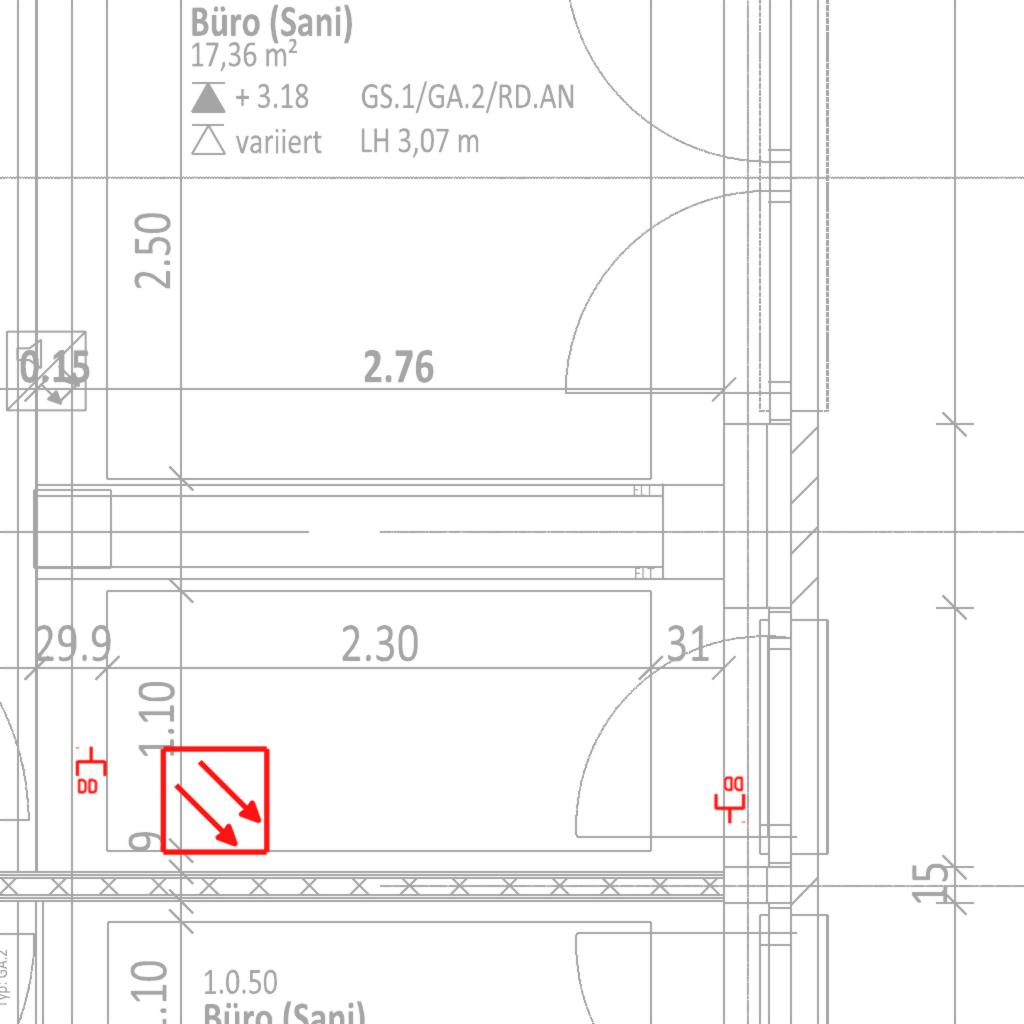Datenanschluss_zweifach: (712, 774, 746, 825), (75, 745, 109, 796)
RMO_Rauchmelder_optischer: (159, 744, 272, 857)
